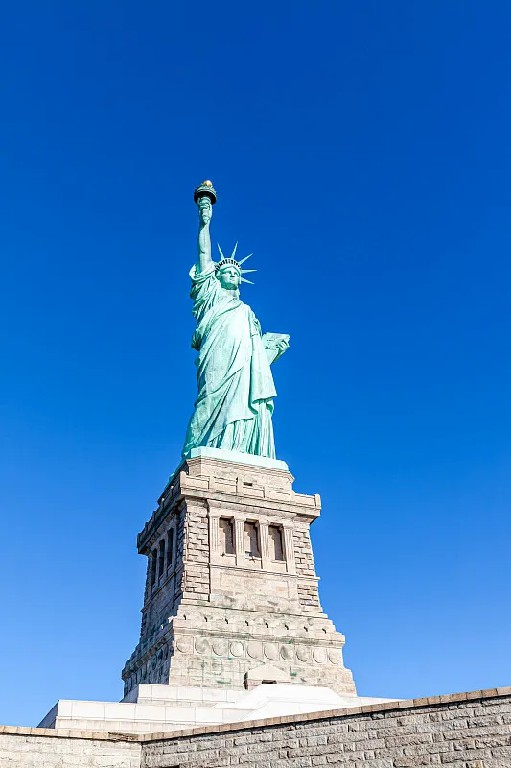SL: (123, 179, 357, 696)
